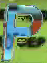Parking: (3, 1, 44, 62)
